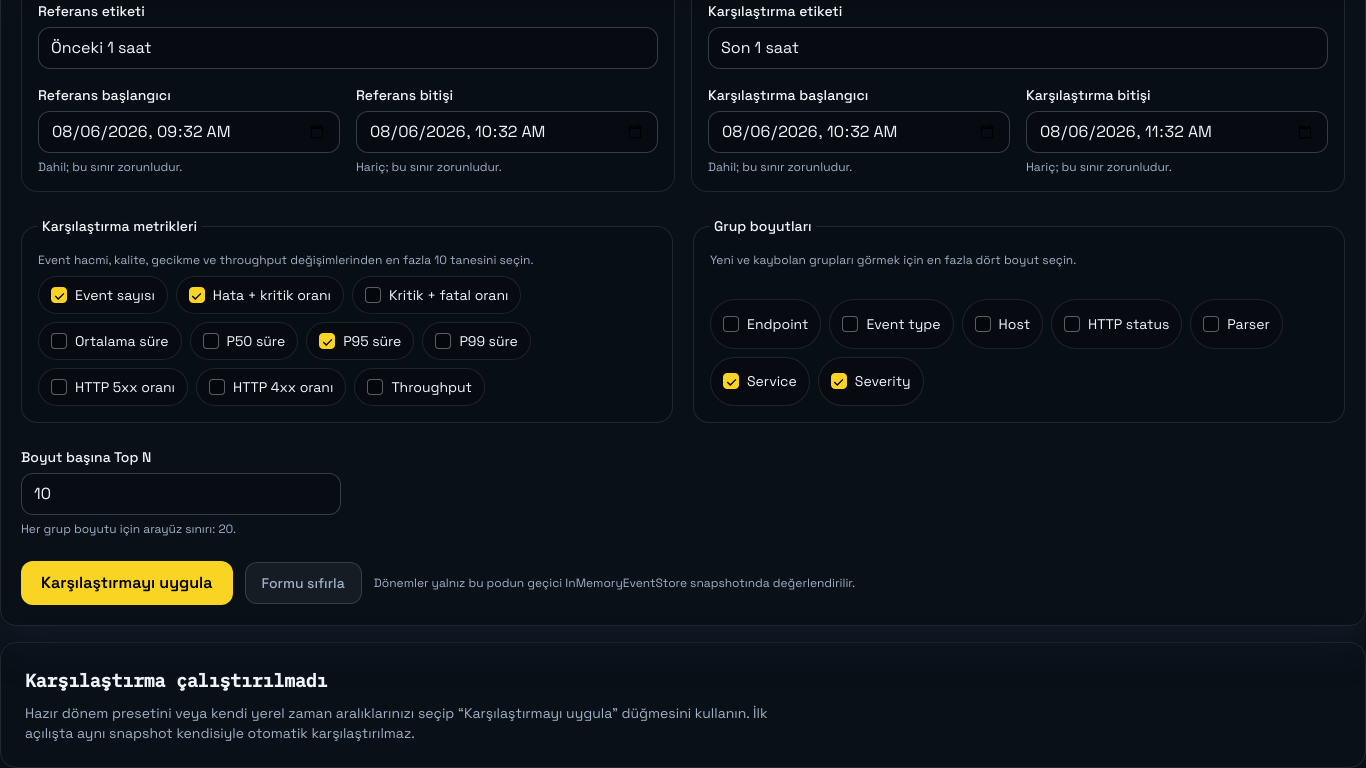
it: ComparisonAnalysisPage › shows safe 429 metadata and retries the exact same request
(page scrolled)
Click the button "Karşılaştırmayı uygula". click: (127, 583)
box: [21, 561, 232, 605]
(page scrolled)
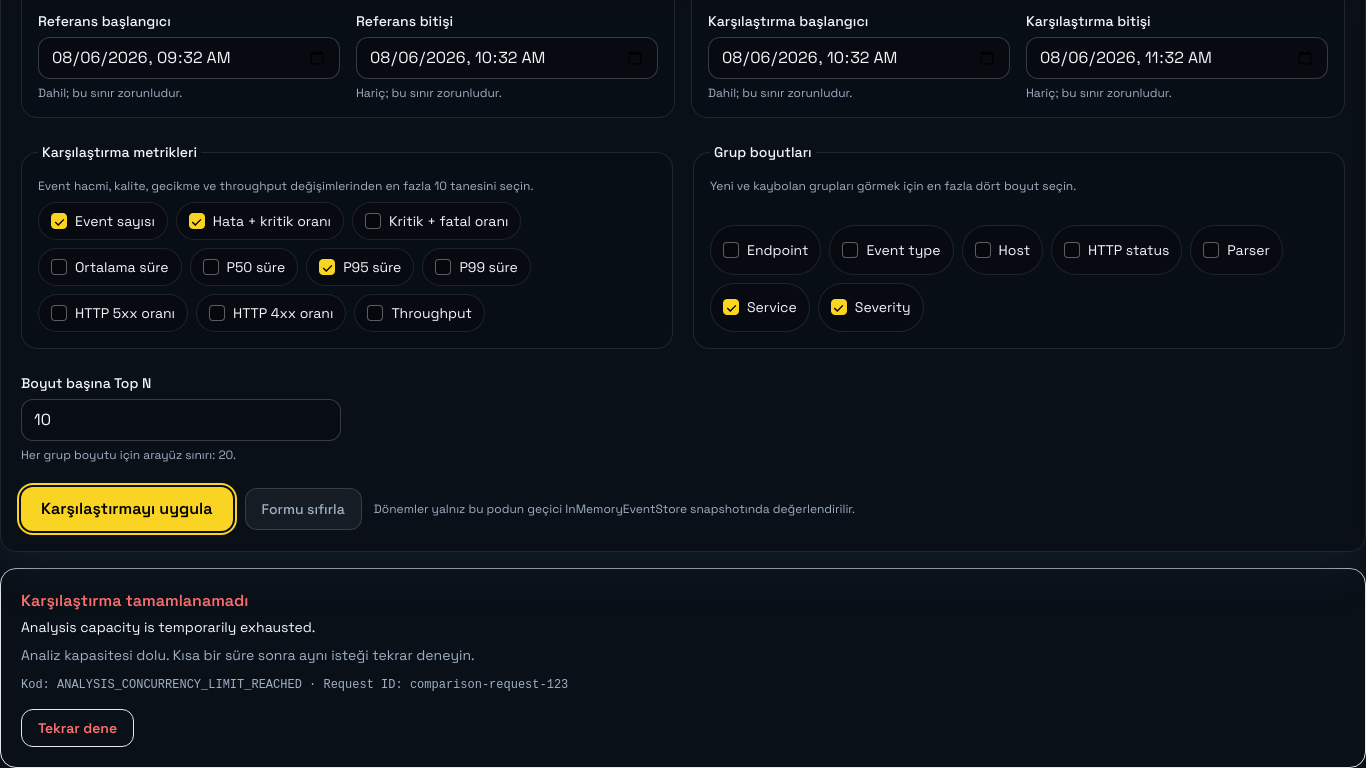
Check: the message shows "Analiz kapasitesi dolu", box [21, 646, 475, 664]
Check: the message shows "ANALYSIS_CONCURRENCY_LIMIT_REACHED", box [21, 678, 302, 692]
Check: the message shows "comparison-request-123", box [324, 678, 568, 692]
Click the button "Tekrar dene". click: (78, 728)
box: [21, 709, 134, 747]
(page scrolled)
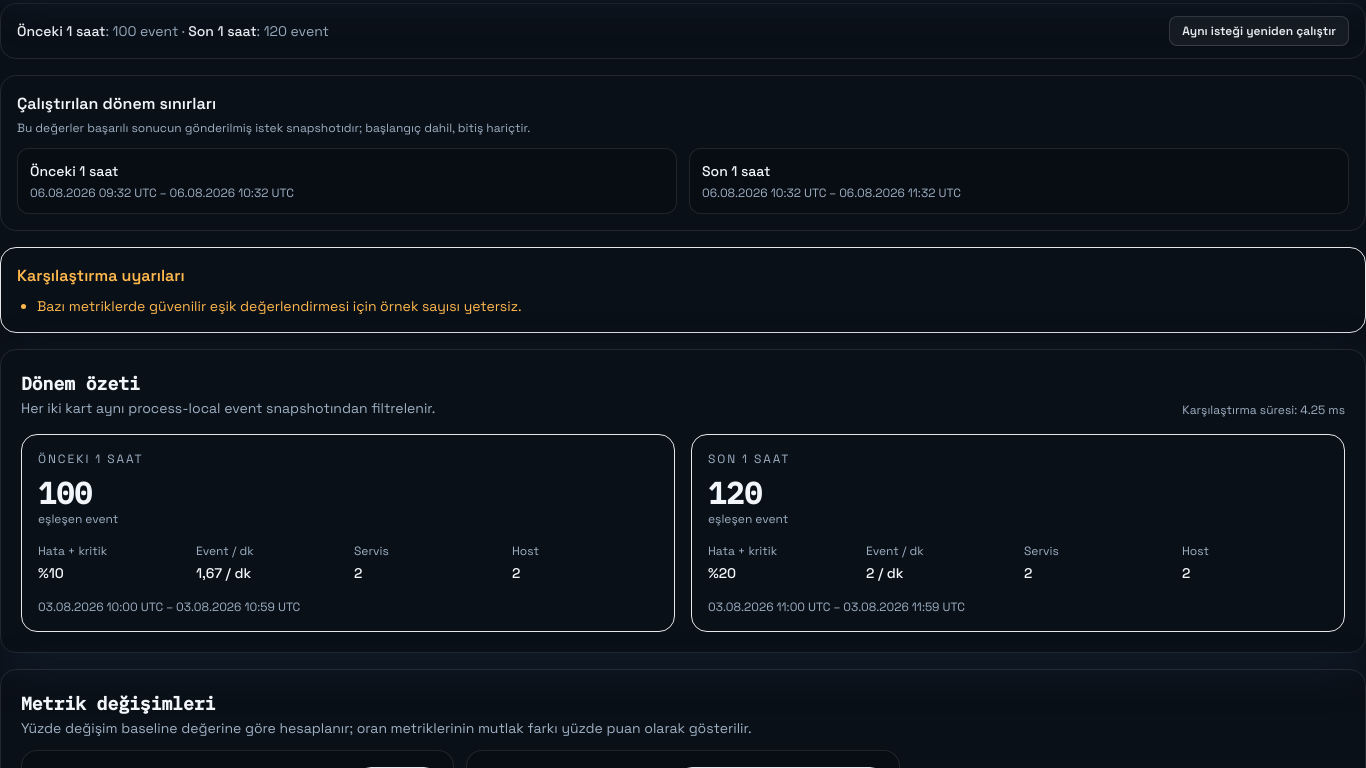
Check: the heading "Dönem özeti" is shown, box [21, 372, 140, 395]
